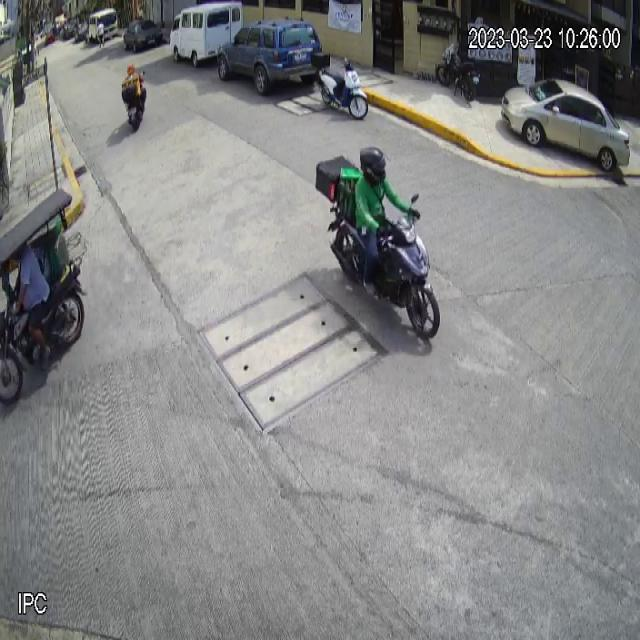Car: (501, 78, 630, 171), (216, 16, 323, 96)
Motorcycle: (313, 154, 440, 341), (309, 49, 369, 120)
Tricycle: (0, 185, 90, 414)
Van: (169, 0, 242, 69)
